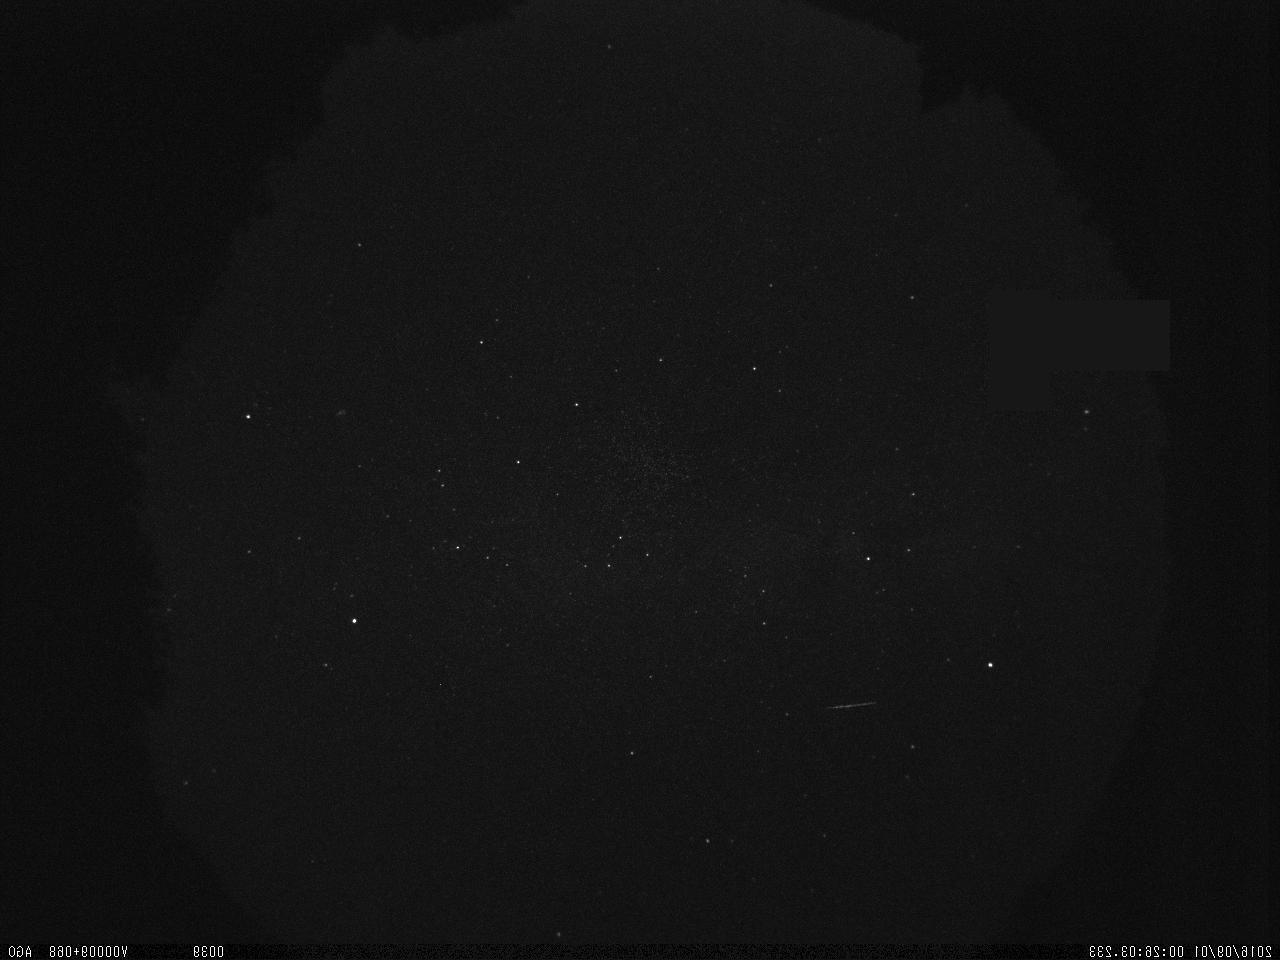meteor: (811, 689, 883, 725)
